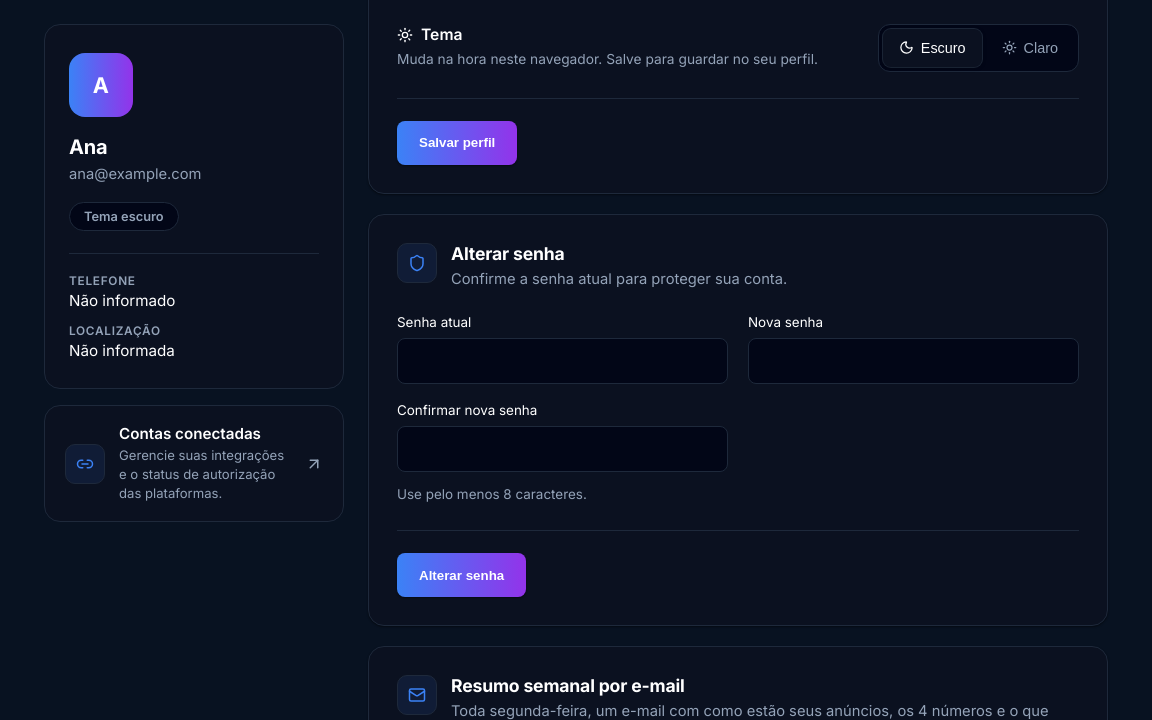
Test: does not claim password success when the backend rejects the current password
(page scrolled)
Type "wrong" into the password field labelled "Senha atual". click: (562, 361)
box: [397, 338, 728, 384]
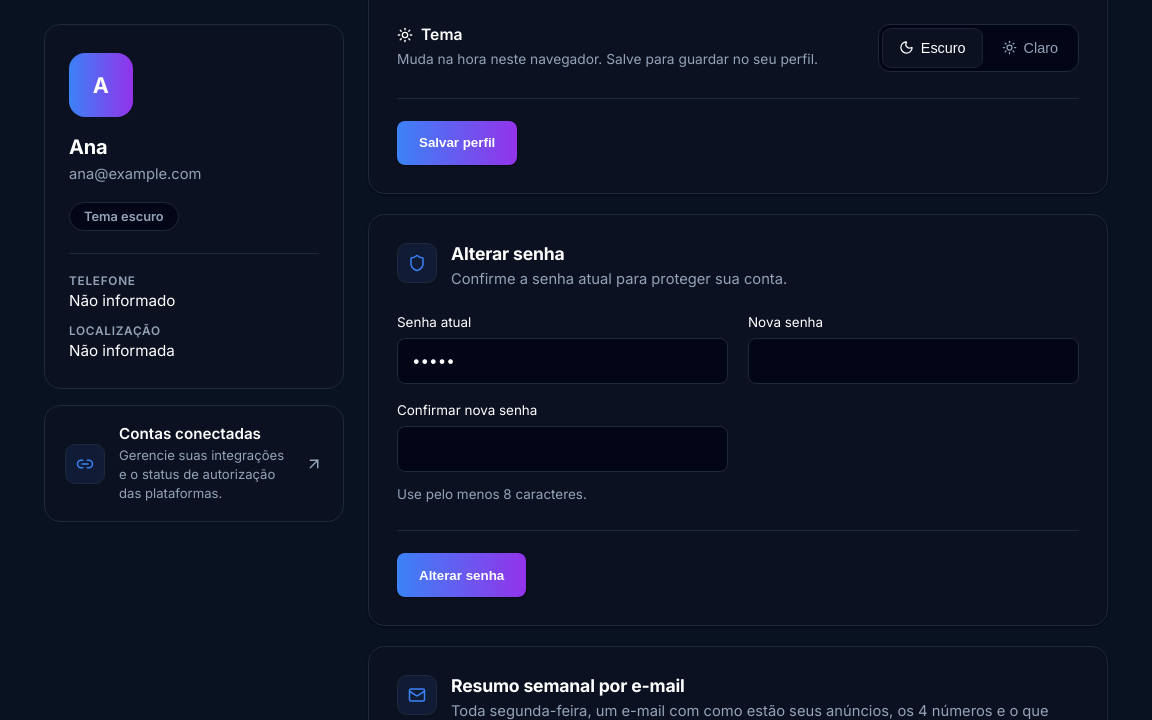
Type "newpassword123" into the password field labelled "Nova senha". click: (914, 361)
box: [748, 338, 1079, 384]
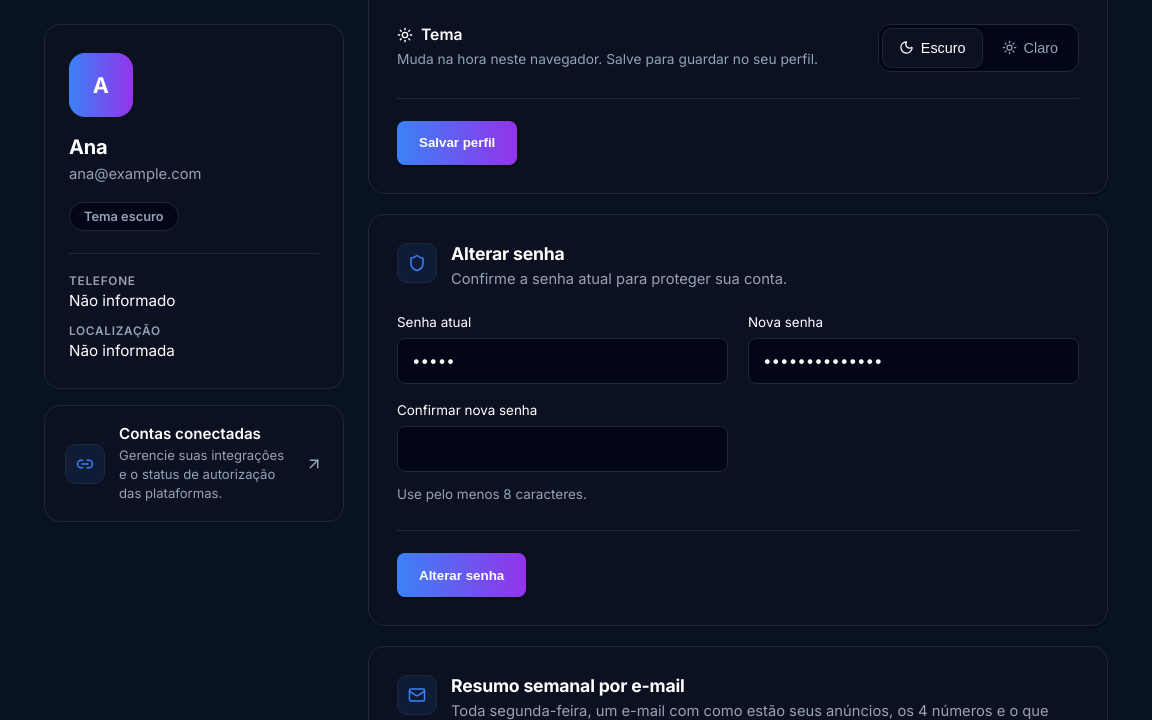
Type "newpassword123" into the password field labelled "Confirmar nova senha". click: (562, 449)
box: [397, 426, 728, 472]
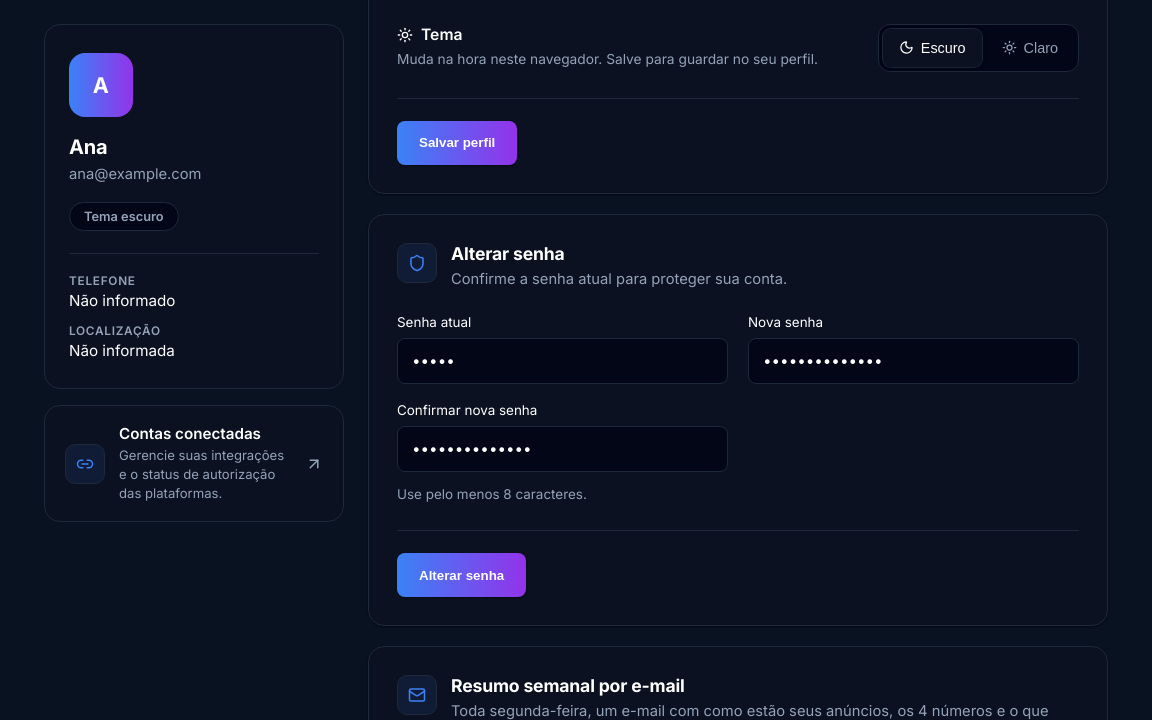
Click the button "Alterar senha". click: (462, 575)
box: [397, 553, 526, 597]
(page scrolled)
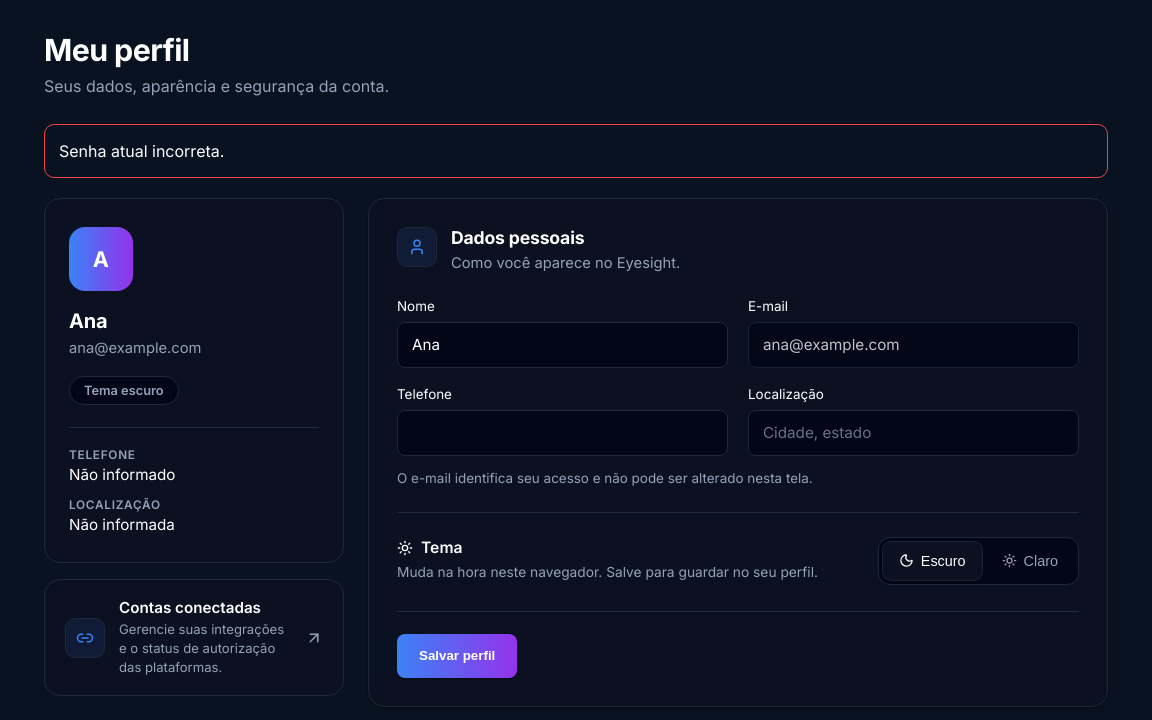
Result: the message reads "Senha atual incorreta." at [59, 141, 224, 161]
